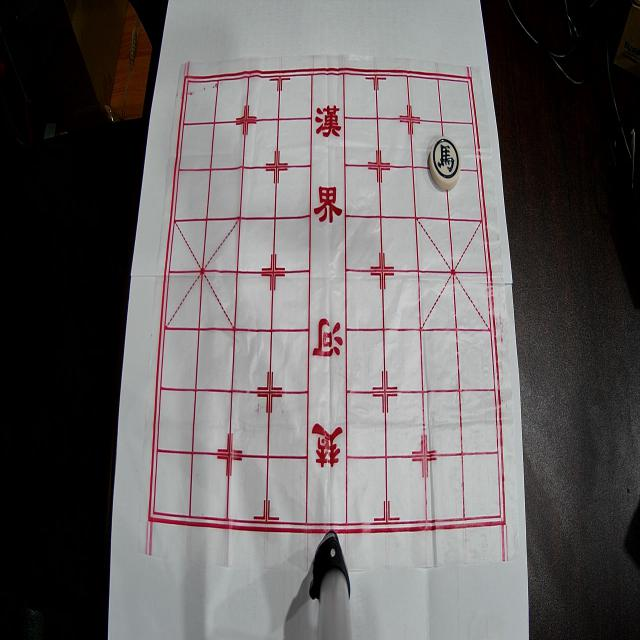black-horse: (429, 136, 461, 190)
